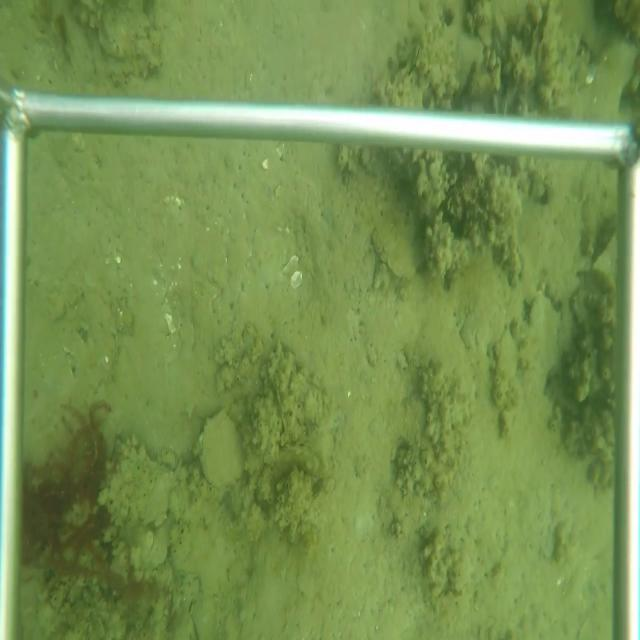Oyster-Closed: (255, 437, 325, 515), (194, 406, 247, 494)
Oyster-Indeterminate: (100, 435, 185, 523), (370, 197, 428, 283)
Oyster-Open: (532, 3, 556, 76)
